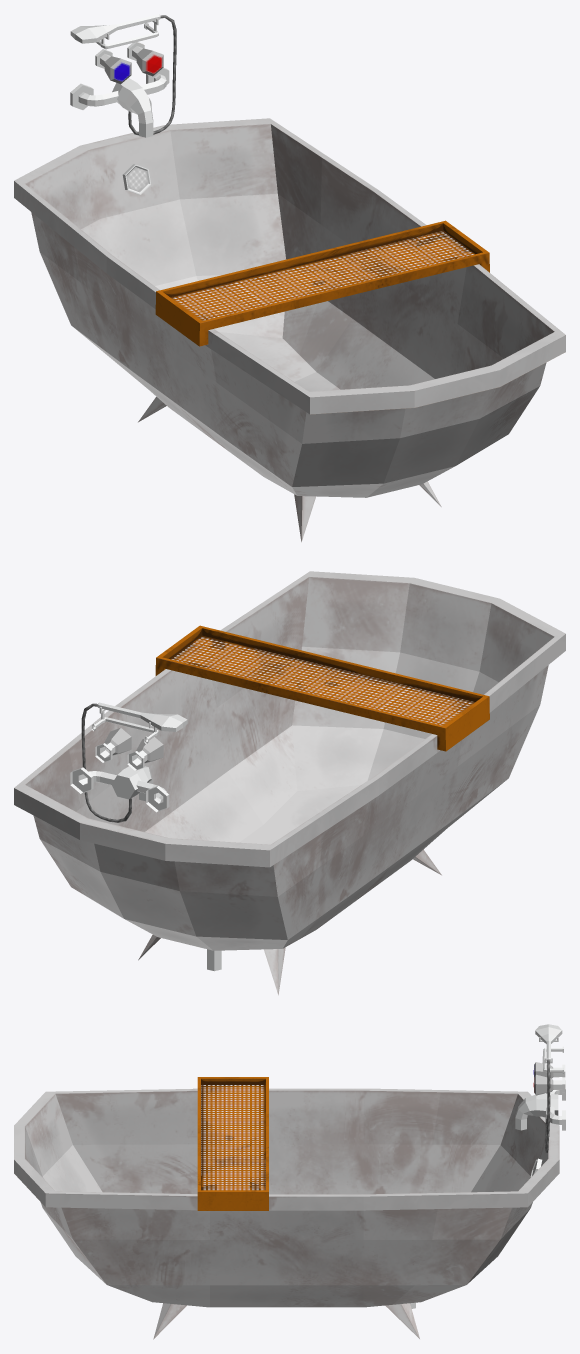
Rendered from Model_Wanna_Anona.fbx.
3 views of the same model, one above another, from view 1: azimuth 30°, elevation 25°; view 2: azimuth 150°, elevation 25°; view 3: azimuth 270°, elevation 25° (orthographic). The views are drawn at different scales.
Visible parts, largest first — view 1: Wanna_Anona; view 2: Wanna_Anona; view 3: Wanna_Anona.
Part boxes in pixels (bbox=[...]): Wanna_Anona: bbox=[14, 14, 565, 542]; Wanna_Anona: bbox=[14, 571, 565, 995]; Wanna_Anona: bbox=[14, 1024, 565, 1339].
Size of the model in its own units: 96.45 by 105 by 195.
